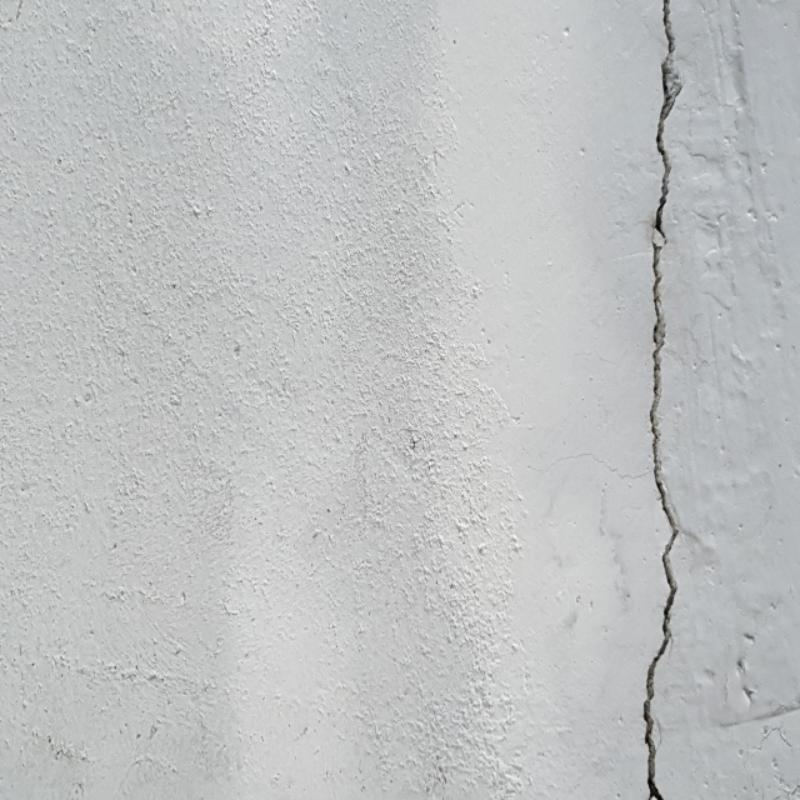pothole: (638, 5, 687, 799)
